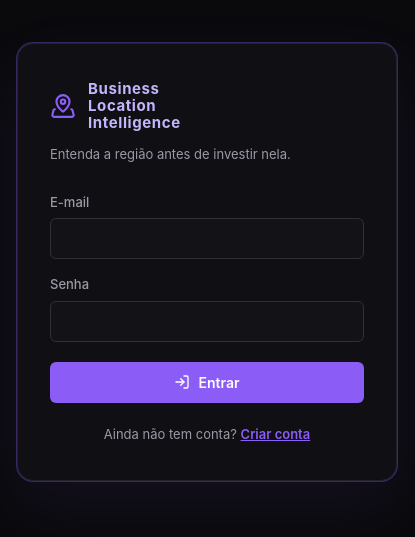
Test: LoginPage › shows a Portuguese message for RATE_LIMITED and never the raw code or server text
Type "maria@example.com" into the field labelled "E-mail". click: (207, 239)
box: [50,218,364,259]
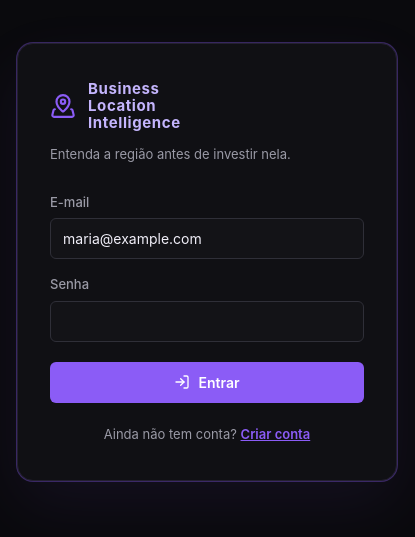
Type "alguma-senha-longa" into the password field labelled "Senha". click: (207, 321)
box: [50,301,364,342]
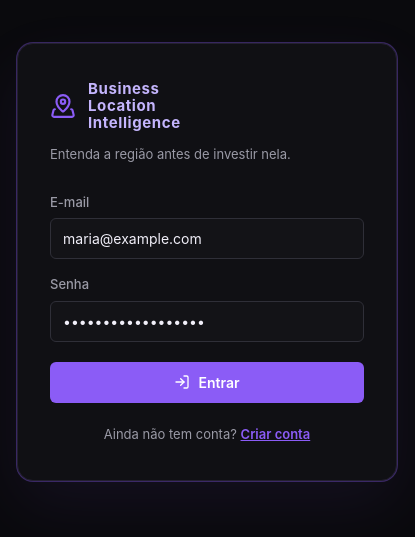
Click the button "Entrar". click: (207, 382)
box: [50,362,364,403]
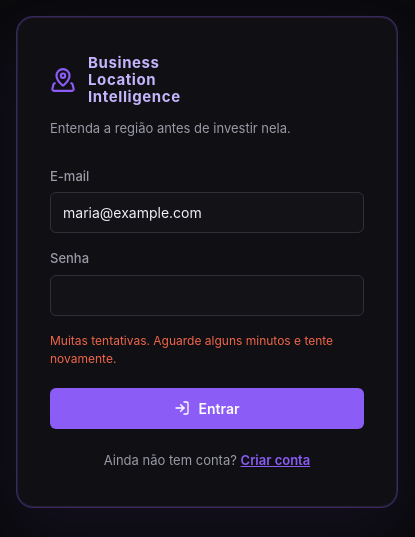
Check: the message reads "Muitas tentativas. Aguarde alguns minutos e tente novamente.", box [50,333,333,366]
